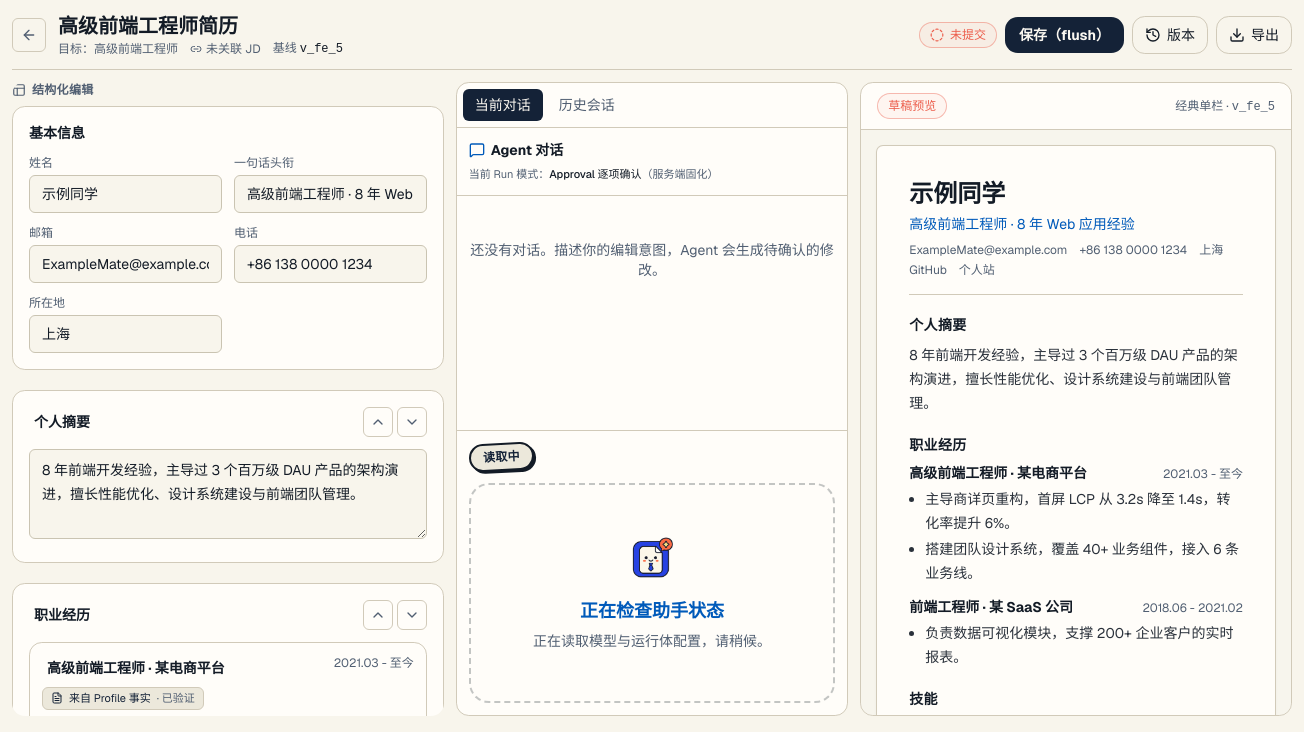
Test: 简历编辑器：导出 › 点导出请求 GET /resumes/{id}/export?format=markdown 并触发下载
The width and height of the screenshot is (1304, 732).
What coordinates should you click on to do the following:
click the button "导出"
I would click on:
 (1254, 34)
Its box is x1=1216 y1=16 x2=1292 y2=54.
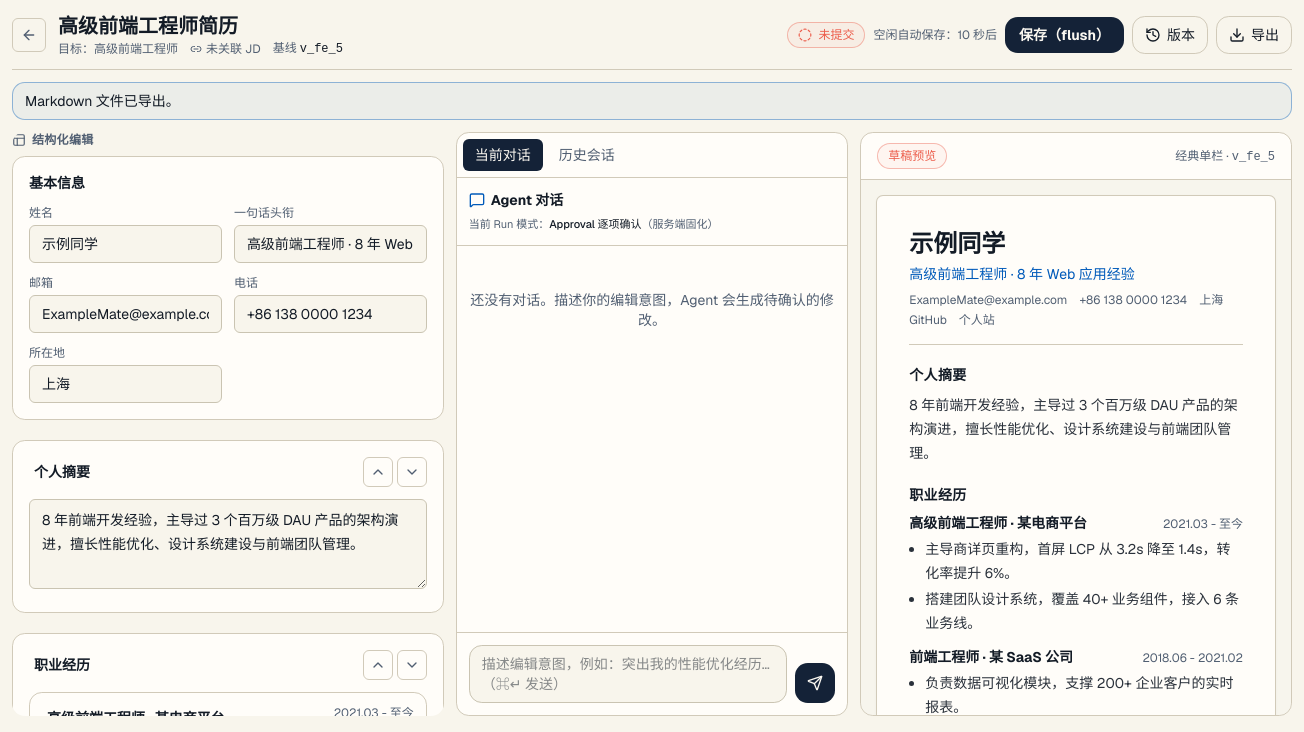
Expected: the text "Markdown 文件已导出。" is shown, x1=12 y1=82 x2=1292 y2=120
